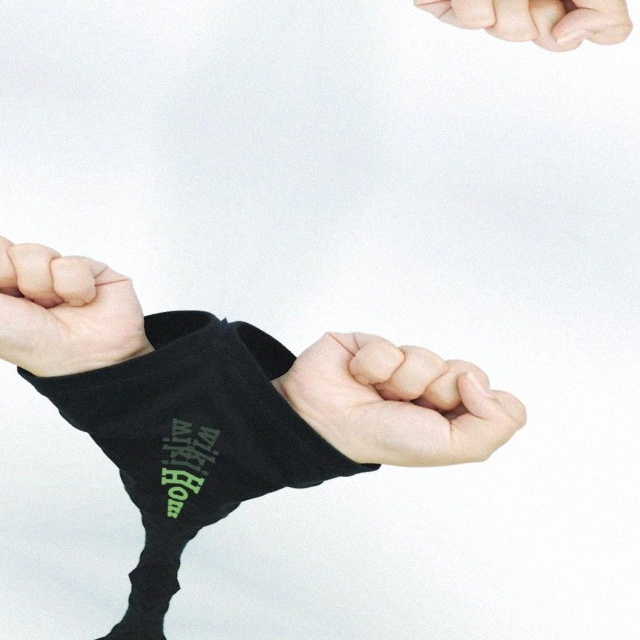Rock: (0, 0, 294, 3)
